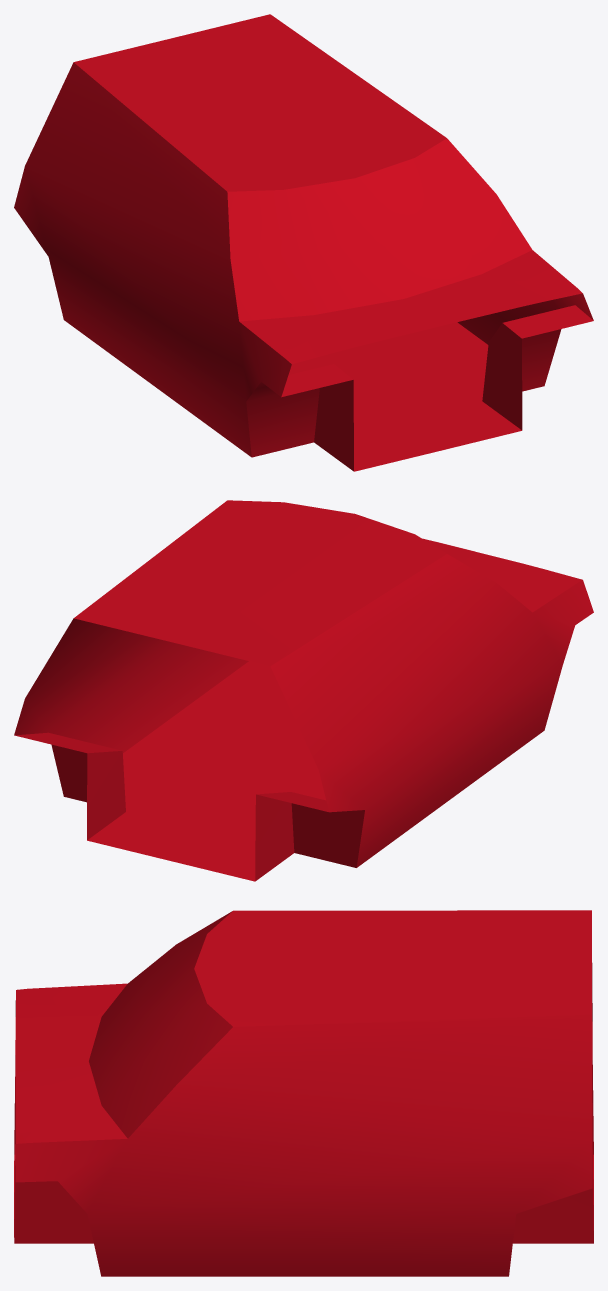
Rendered from template_car_wagon_middle.dae.
3 views of the same model, one above another, from view 1: azimuth 30°, elevation 25°; view 2: azimuth 150°, elevation 25°; view 3: azimuth 270°, elevation 25° (orthographic). The views are drawn at different scales.
Visible parts, largest first — view 1: template_car_wagon_middle; view 2: template_car_wagon_middle; view 3: template_car_wagon_middle.
Part boxes in pixels (x1,y1,x2,y2): template_car_wagon_middle: (14, 14, 593, 471); template_car_wagon_middle: (14, 500, 593, 881); template_car_wagon_middle: (14, 910, 593, 1276).
Bounding box in the file's own units: 1.72 × 2.51 × 1.13.
